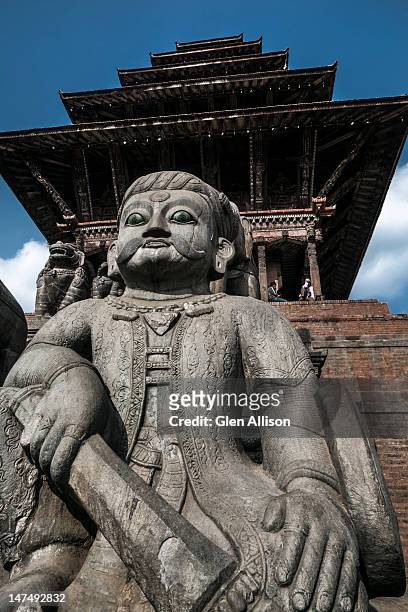nyathapola: (3, 1, 407, 374)
